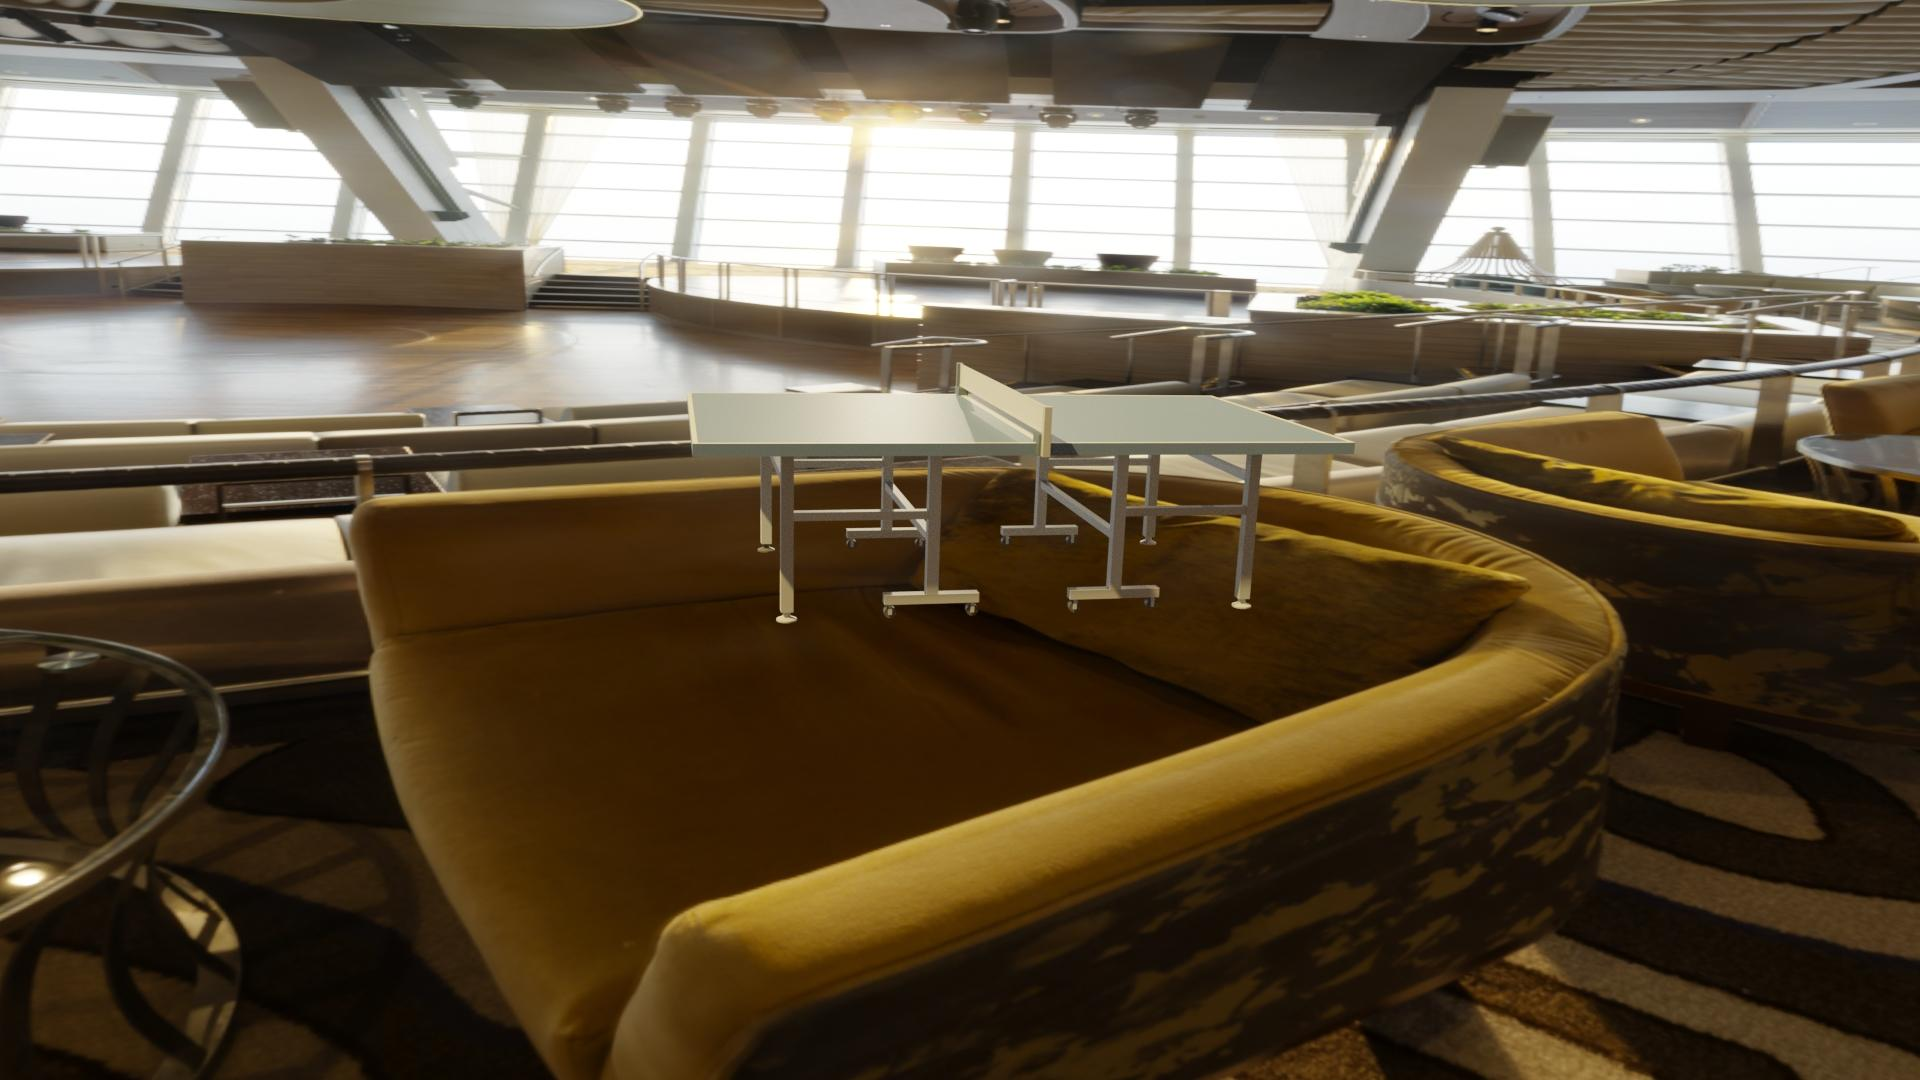table: (691, 393, 1349, 443)
